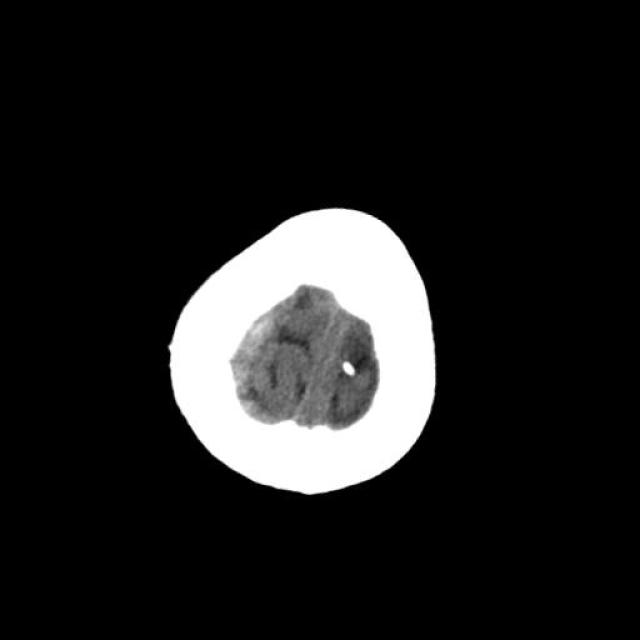Subdural: (193, 270, 308, 431)
